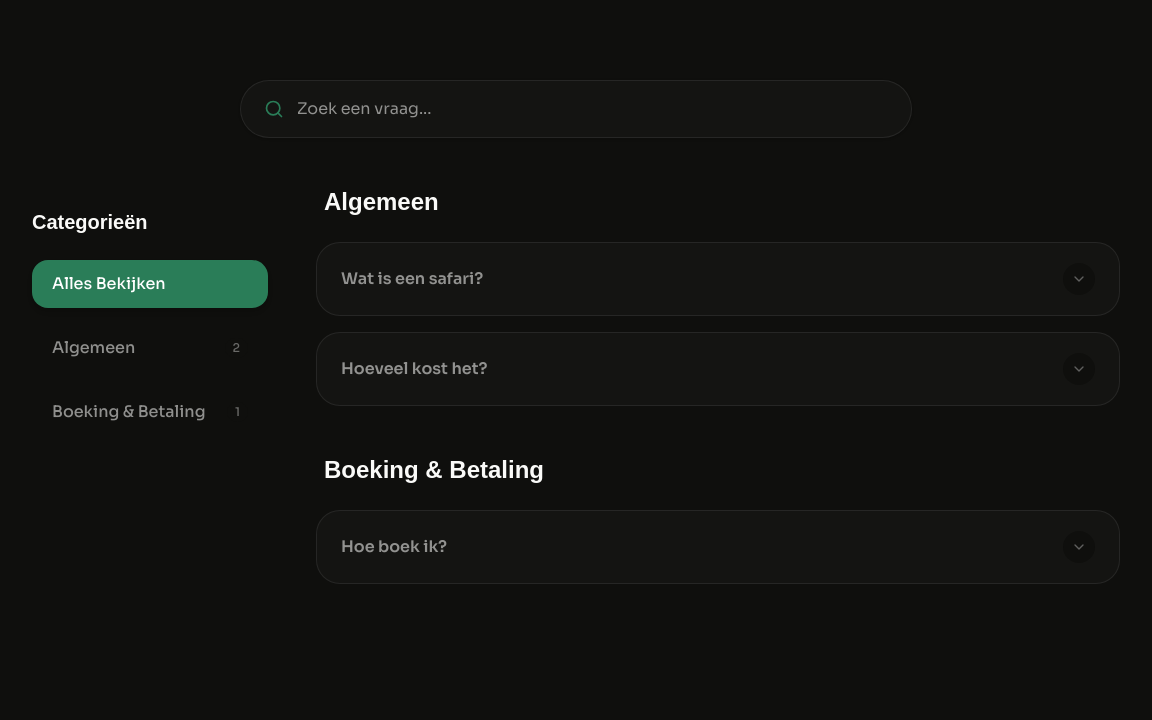
Test case: FaqClient › category filter shows only matching questions
Note: Click the 'booking' category button
What coordinates should you click on to do the following:
click the button "Boeking & Betaling 1"
I would click on:
 (150, 412)
Its box is left=32, top=388, right=268, bottom=436.
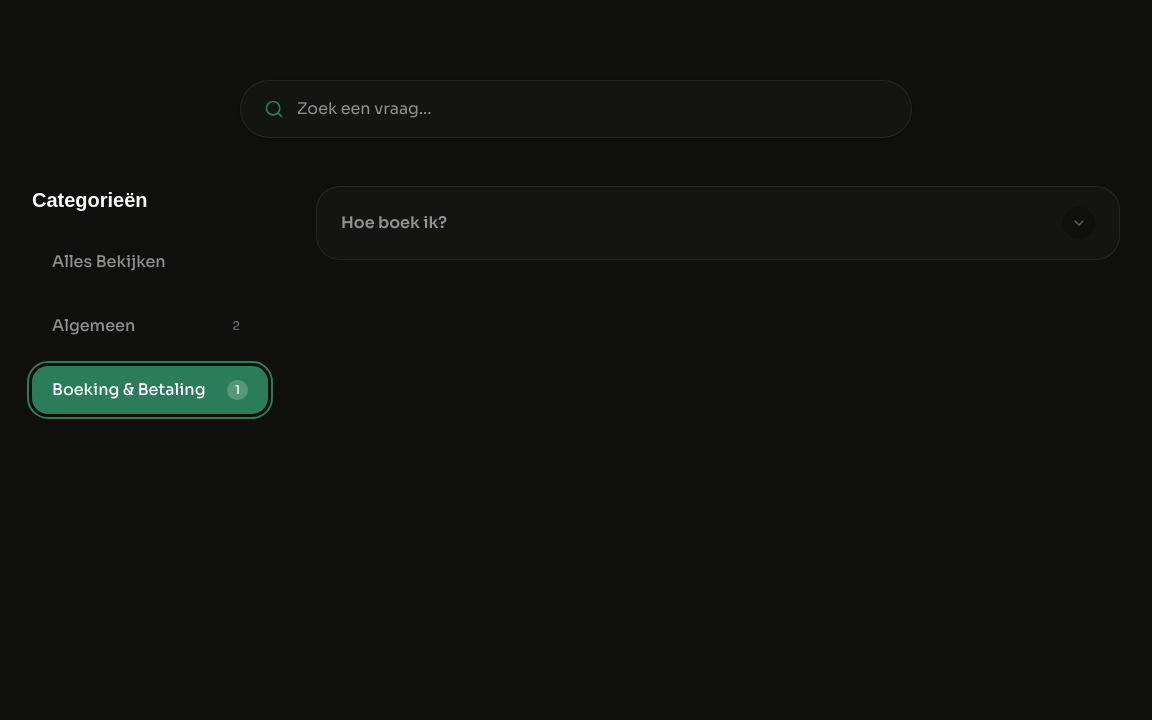
Expected: the text "Hoe boek ik?" is shown, left=341, top=212, right=447, bottom=233
Expected: the button "Wat is een safari?" is gone
Expected: the button "Hoeveel kost het?" is gone
